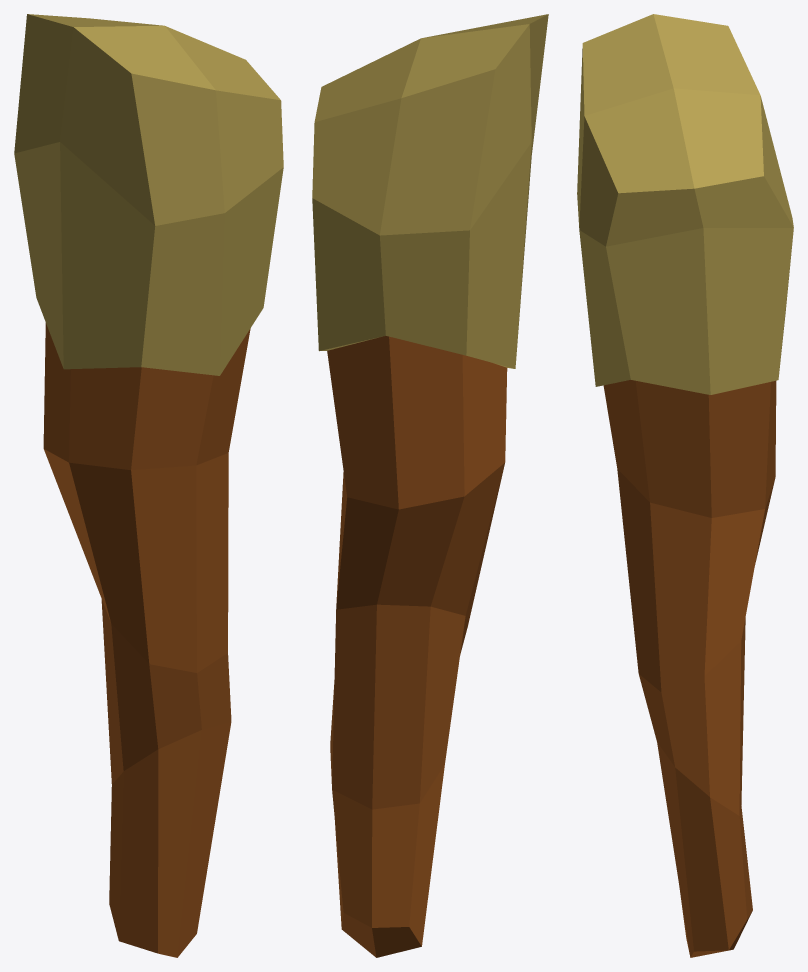
The model's file is torch.fbx.
3 views of the same model, side by side, from view 1: azimuth 30°, elevation 25°; view 2: azimuth 150°, elevation 25°; view 3: azimuth 270°, elevation 25° (orthographic). The views are drawn at different scales.
Visible parts, largest first — view 1: torch; view 2: torch; view 3: torch.
Part boxes in pixels (bbox=[...]): torch: bbox=[14, 14, 283, 957]; torch: bbox=[312, 14, 548, 957]; torch: bbox=[577, 14, 793, 957].
Bounding box in the file's own units: 13.28 × 61.06 × 13.5.
